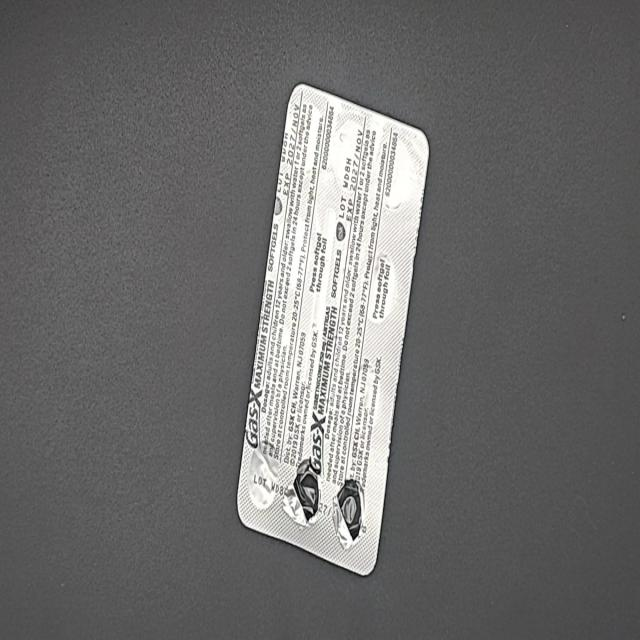defect: (281, 458, 323, 530), (331, 477, 367, 553)
